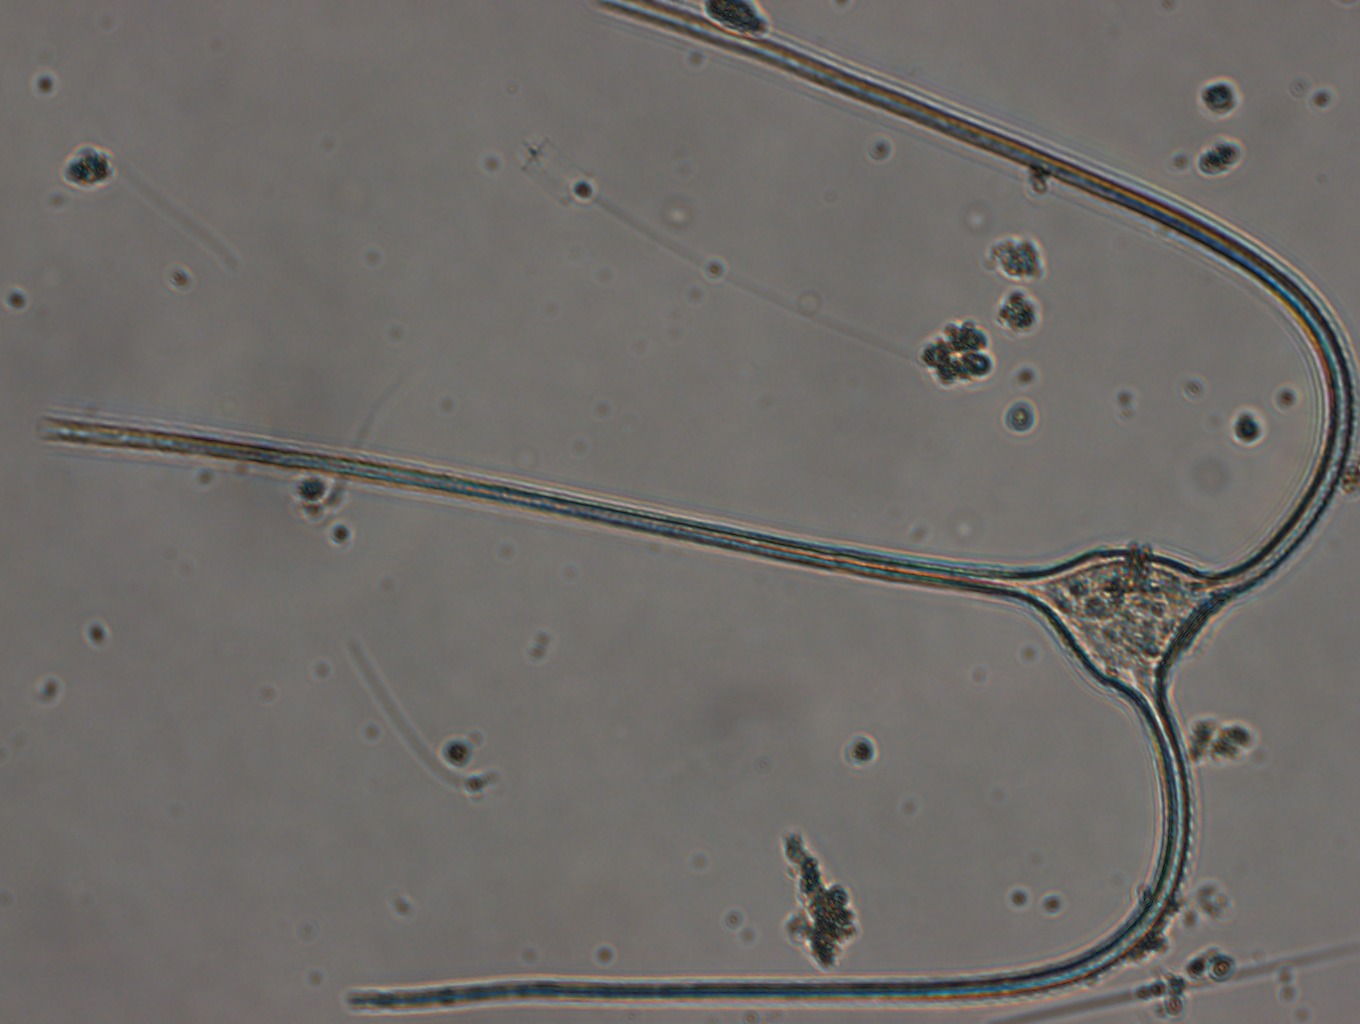ceratium trichoceros: (37, 1, 1360, 1015)
